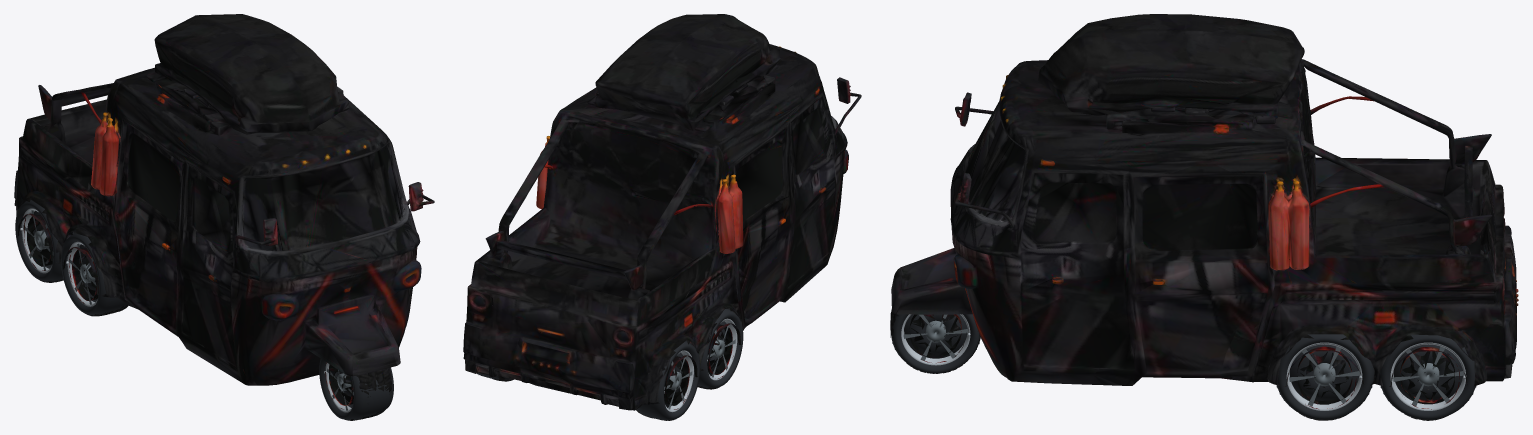
The model's file is neon_shadow.glb.
3 views of the same model, side by side, from view 1: azimuth 30°, elevation 25°; view 2: azimuth 150°, elevation 25°; view 3: azimuth 270°, elevation 25° (orthographic). The views are drawn at different scales.
Visible parts, largest first — view 1: Body, TireFront, TireRearR, TireRearExtraR, RimRearExtraR; view 2: Body, TireRearExtraR, TireRearR; view 3: Body, TireRearL, TireRearExtraL, BrakeRearL, BrakeRearExtraL, TireFront, BrakeFront, RimRearL, RimRearExtraL, RimFront.
Part boxes in pixels (x1=…): Body: x1=14, y1=14, x2=434, y2=420; TireFront: x1=319, y1=359, x2=393, y2=420; TireRearR: x1=61, y1=233, x2=126, y2=315; TireRearExtraR: x1=15, y1=200, x2=69, y2=281; RimRearExtraR: x1=21, y1=208, x2=51, y2=273; Body: x1=463, y1=14, x2=861, y2=420; TireRearExtraR: x1=636, y1=341, x2=699, y2=420; TireRearR: x1=686, y1=309, x2=743, y2=387; Body: x1=890, y1=14, x2=1518, y2=420; TireRearL: x1=1277, y1=334, x2=1374, y2=419; TireRearExtraL: x1=1379, y1=334, x2=1475, y2=419; BrakeRearL: x1=1289, y1=344, x2=1359, y2=404; BrakeRearExtraL: x1=1393, y1=344, x2=1462, y2=404; TireFront: x1=890, y1=314, x2=979, y2=373; BrakeFront: x1=904, y1=314, x2=967, y2=358; RimRearL: x1=1286, y1=342, x2=1362, y2=410; RimRearExtraL: x1=1390, y1=342, x2=1466, y2=410; RimFront: x1=901, y1=314, x2=970, y2=365.
Size of the model in its own units: 1.17 by 1.57 by 2.65.
4 materials, 1 textured.
